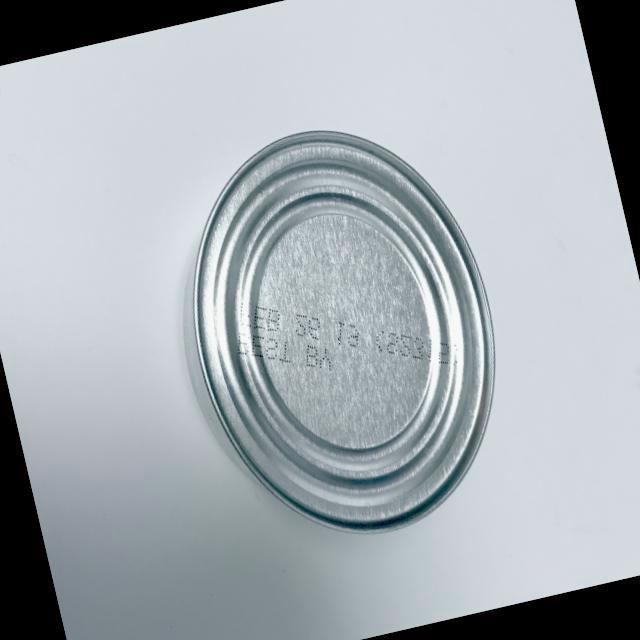metal: (123, 56, 546, 580)
